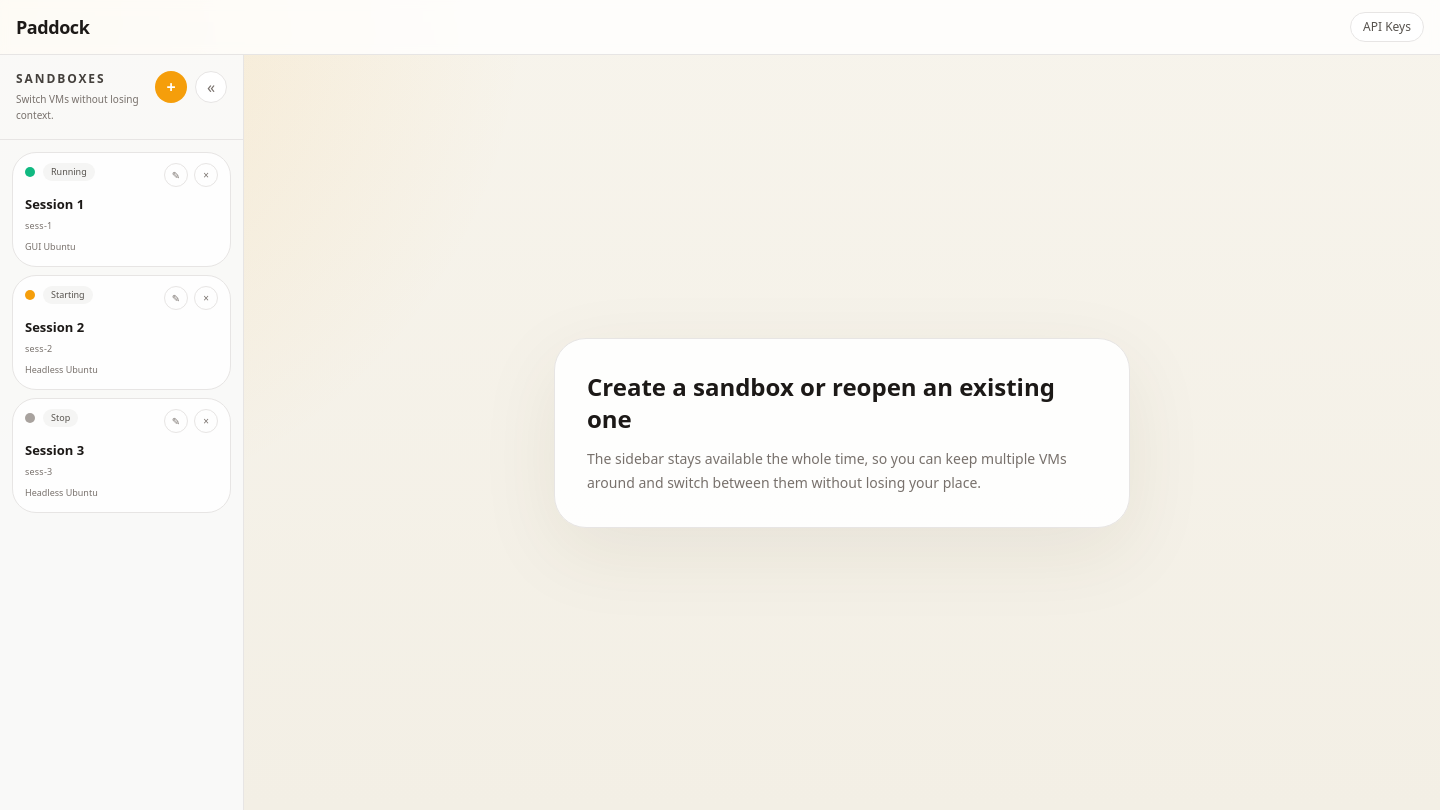
Test: App browser journey › uses only the current start timeline when reopening a stopped session with old ready events
Click the button "Session 3 sess-3 Headless Ubuntu" at (61, 466), box [25,433,98,500]
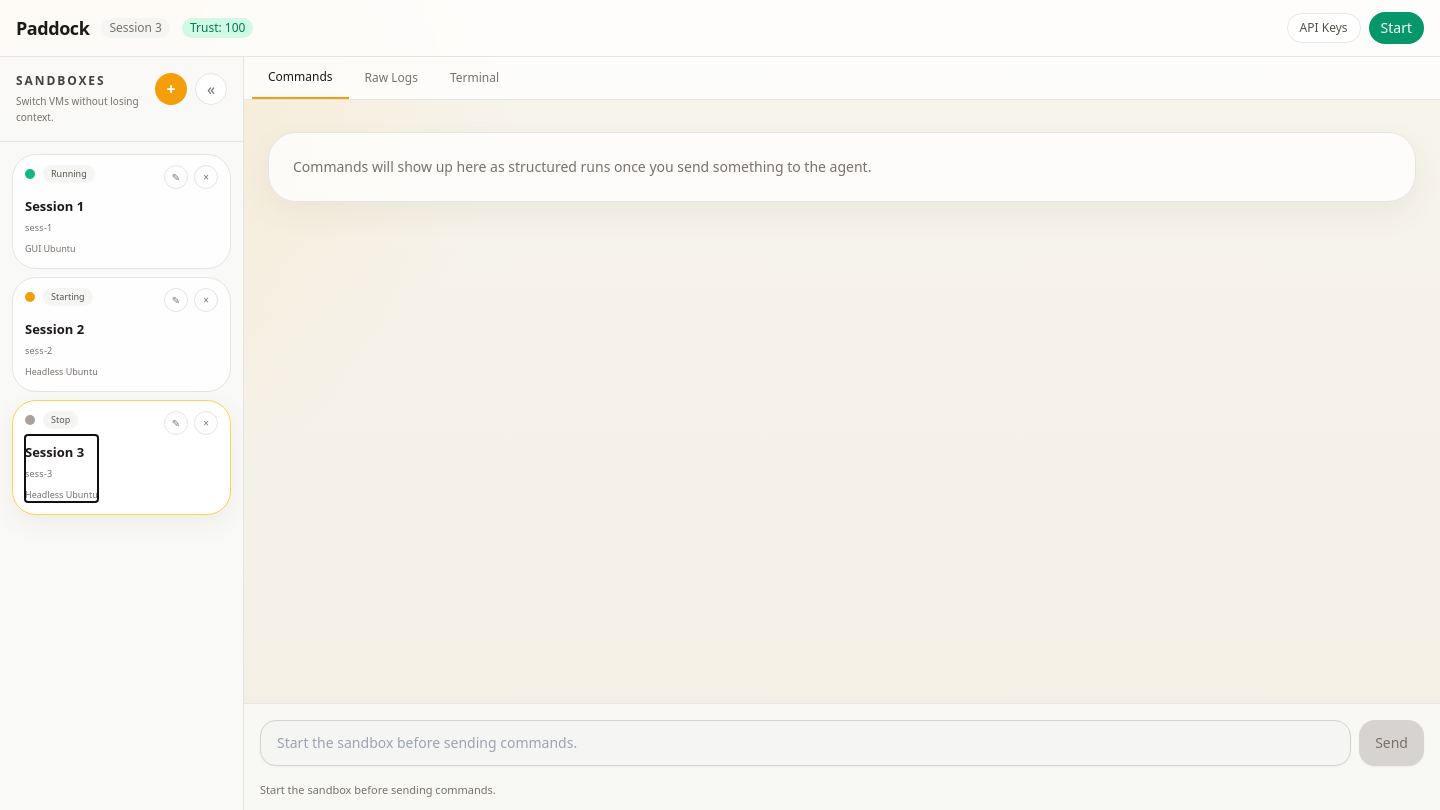
Click the button "Start" at (1396, 28), box [1369,12,1424,44]
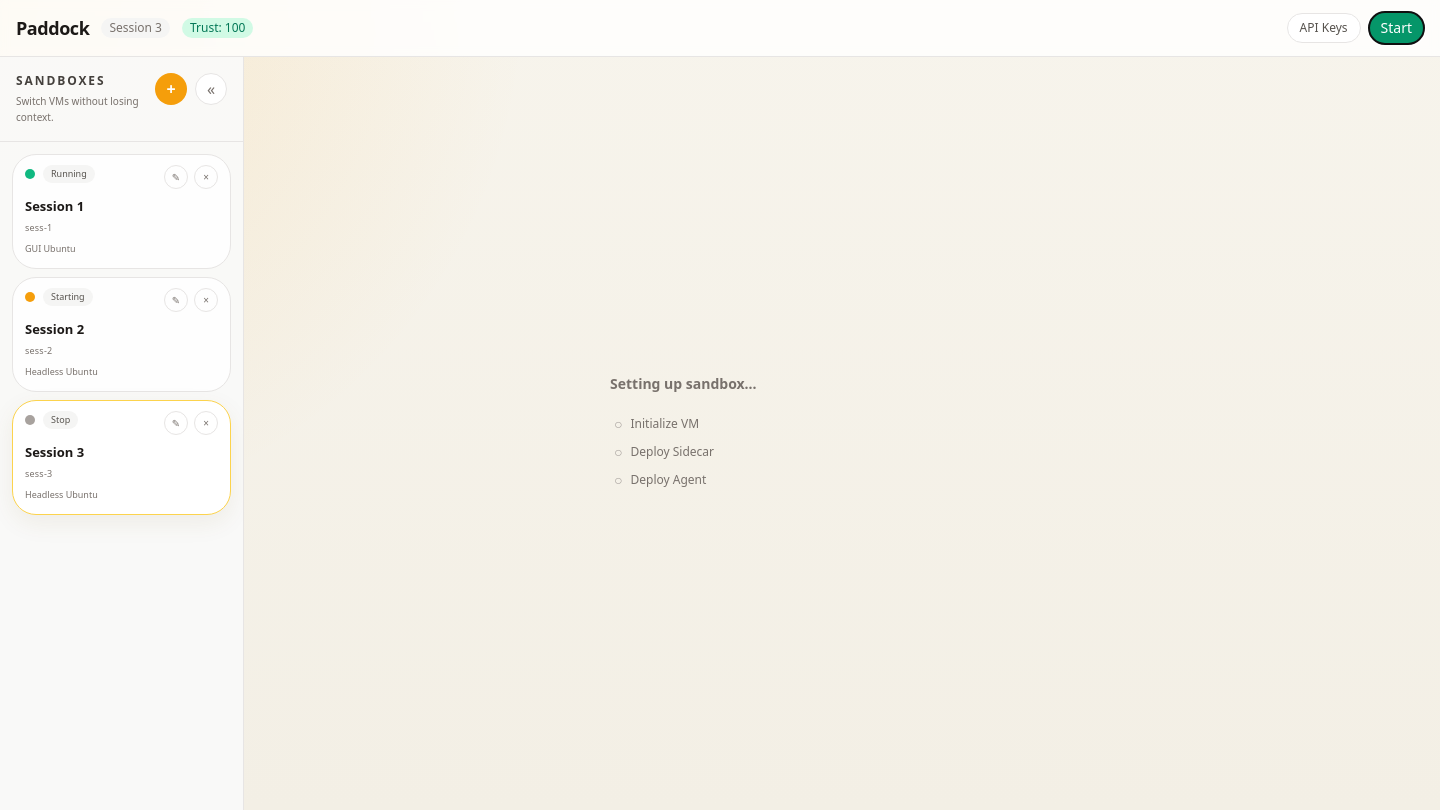
Result: the heading "Setting up sandbox..." is shown at [610,374,757,392]
